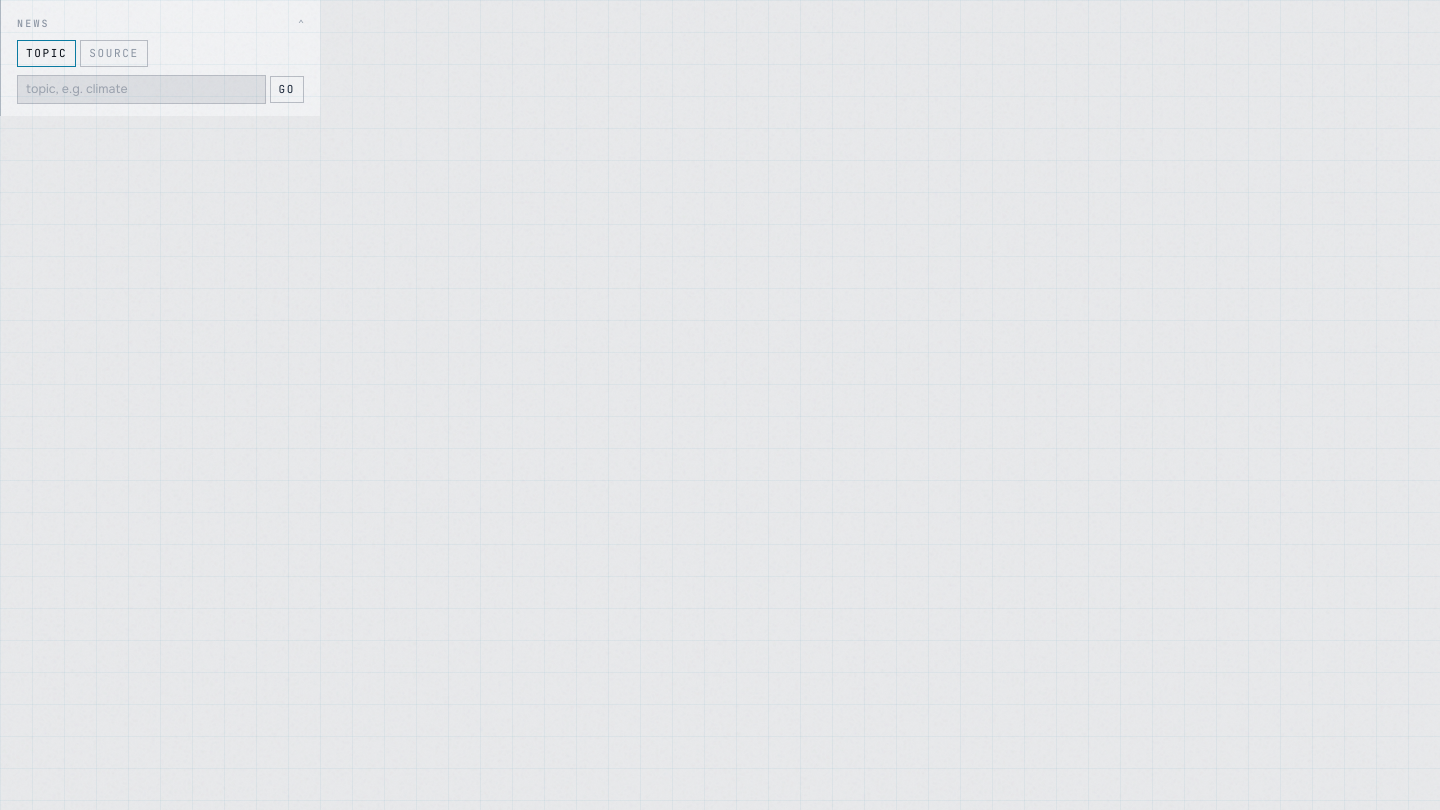
NewsWidget › renders not_configured banner on 503
In the field with placeholder "topic, e.g. climate": (141, 89) x1=17 y1=74 x2=266 y2=104, type "ai"
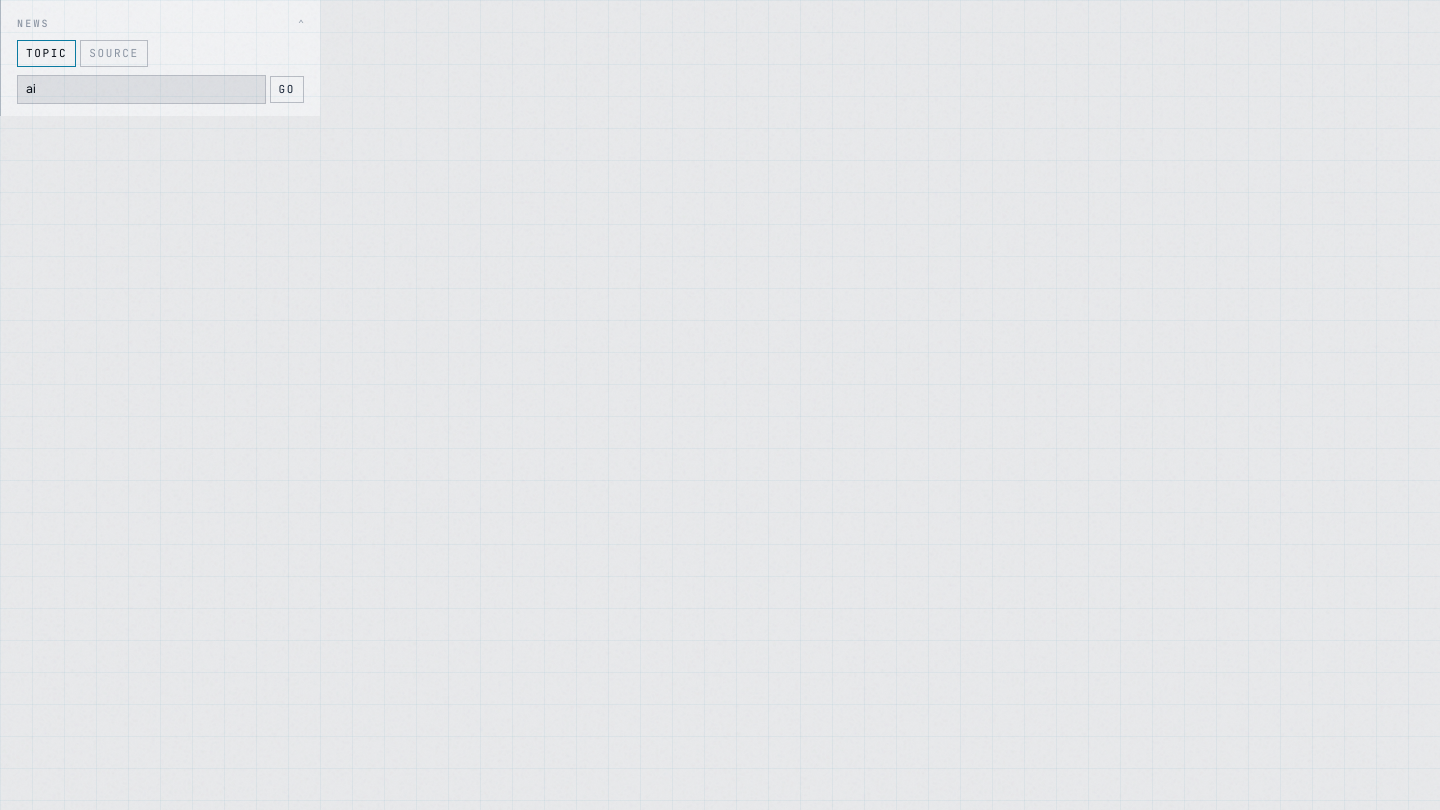
Click the button "Go": (287, 89) x1=270 y1=76 x2=304 y2=103
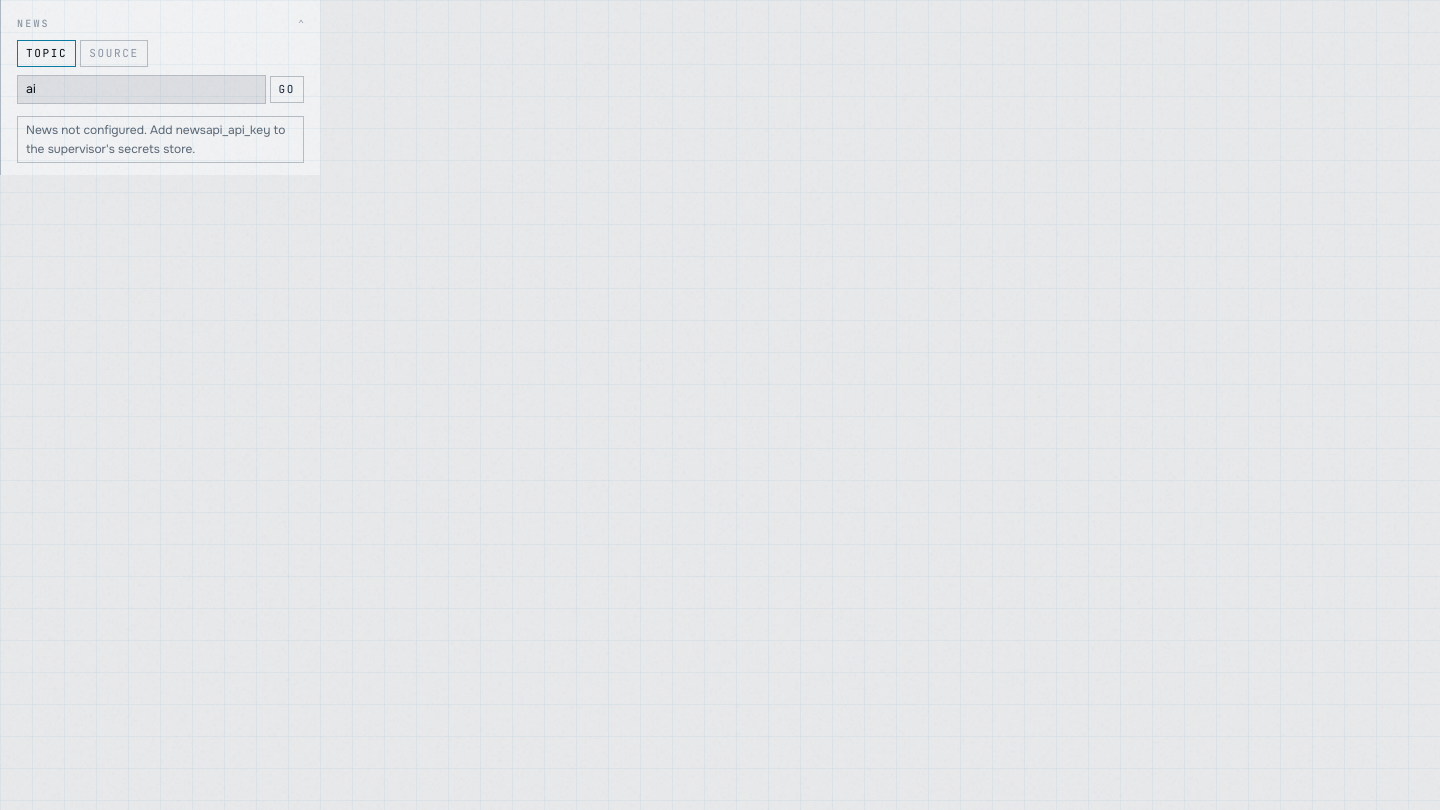
Result: the text "News not configured" is shown at x1=26 y1=122 x2=286 y2=156
